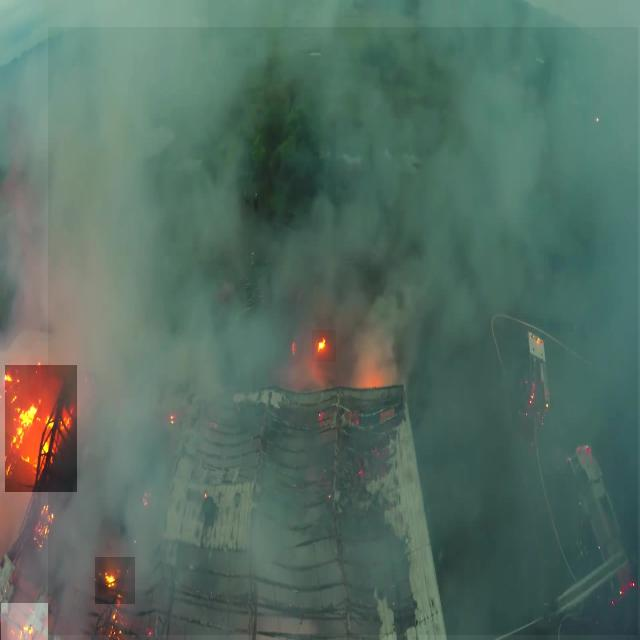Fire: (6, 365, 78, 492), (95, 557, 135, 604), (1, 603, 48, 640), (312, 330, 336, 362)
Smoke: (48, 27, 638, 635)
